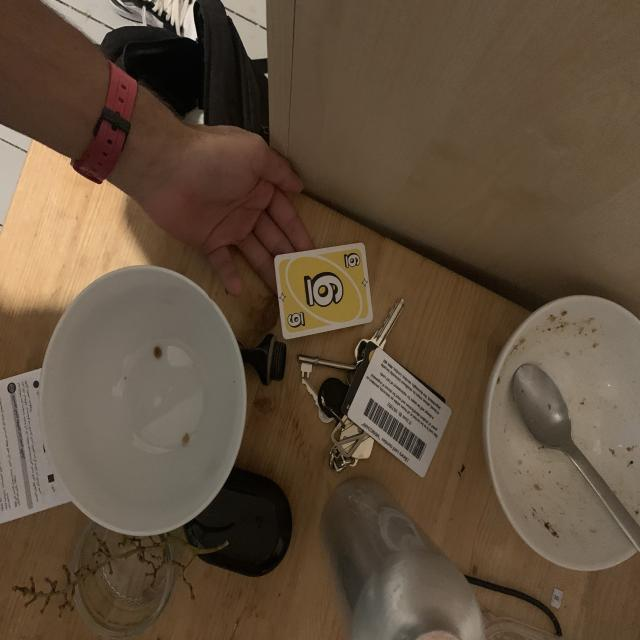lyellow-6: (339, 249, 365, 276)
